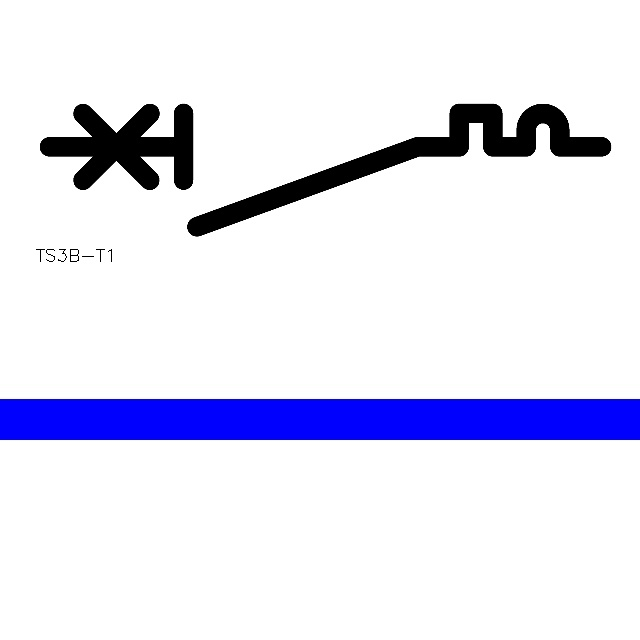interruptor_termomagnetico: (35, 99, 616, 241)
